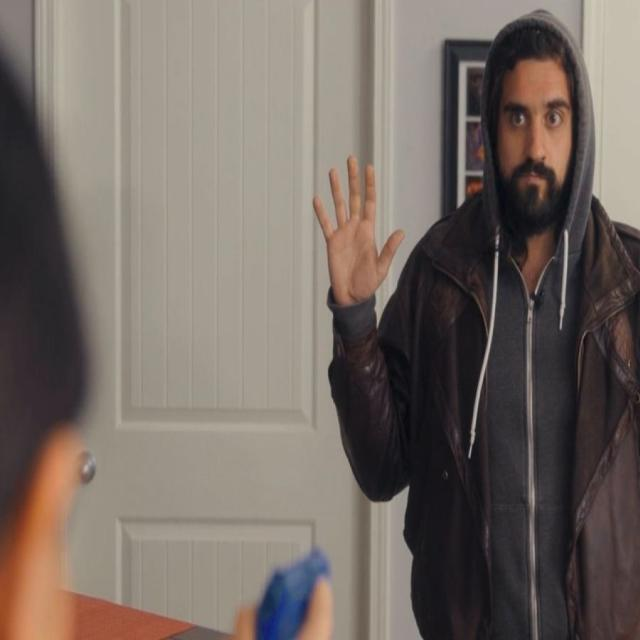intrusion detected: (311, 15, 640, 636)
